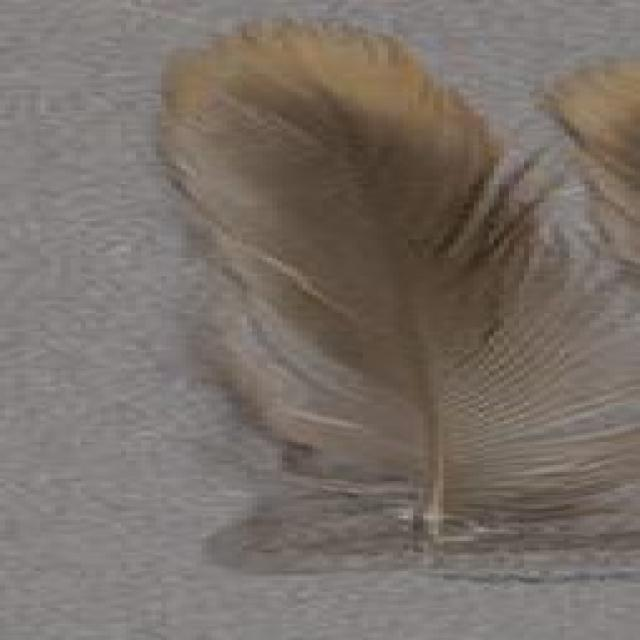feather: (146, 9, 640, 532)
